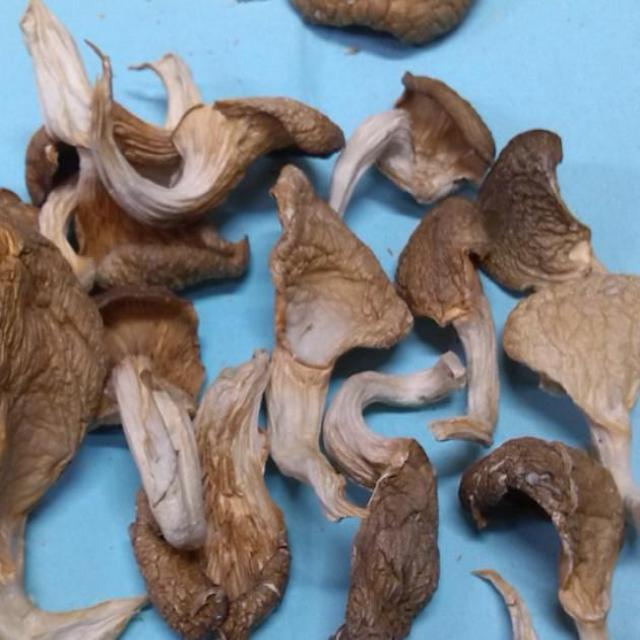Hypsizygus marmoreus: (0, 190, 150, 638), (271, 159, 409, 528), (84, 38, 347, 217), (131, 351, 287, 634), (76, 251, 206, 545), (334, 352, 460, 640), (463, 438, 638, 640), (507, 269, 640, 524), (397, 201, 501, 447), (331, 72, 494, 224), (494, 127, 640, 294)
